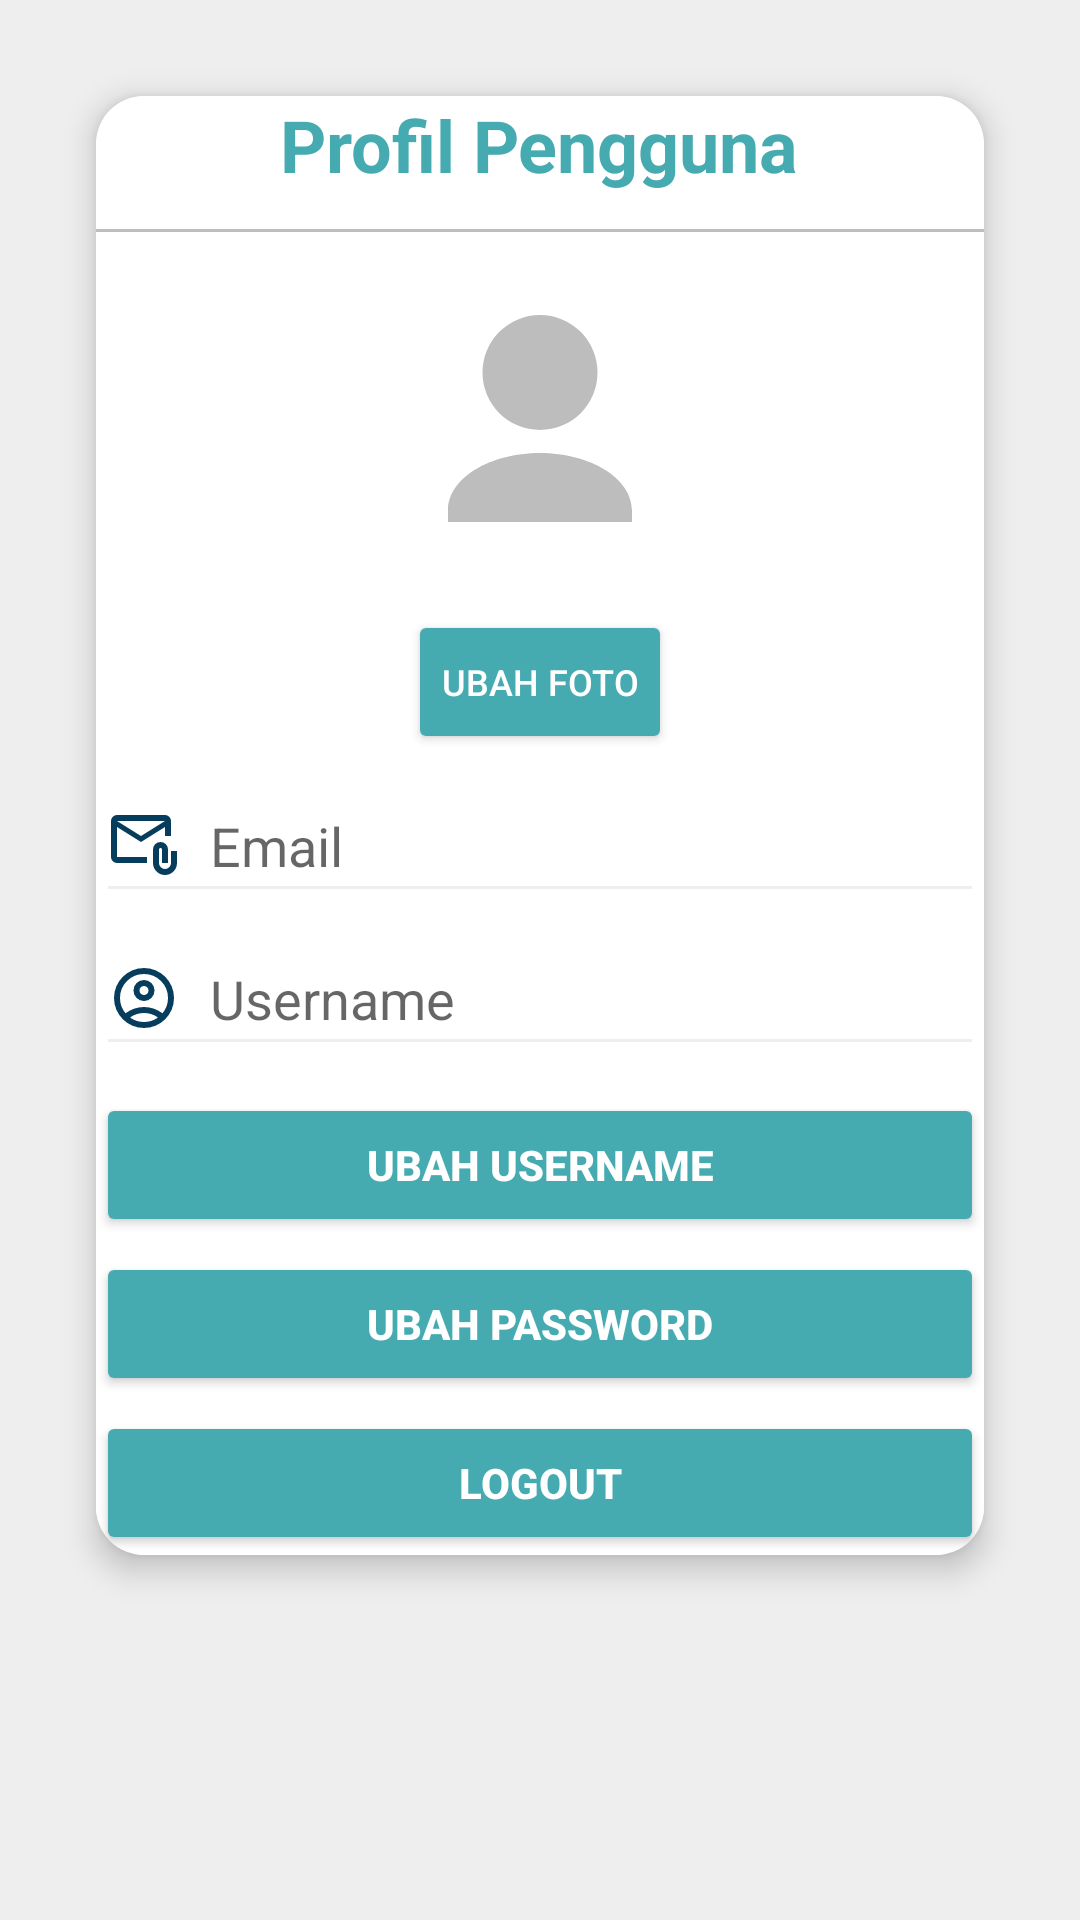

Screen size 1080px x 1920px. Icon name, then its center in pixels as (x=x, y=y):
user: (x=540, y=418)
